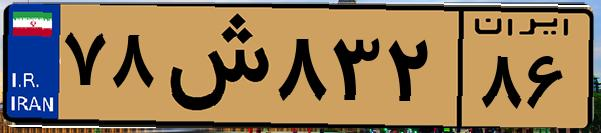2: (385, 28, 445, 110)
3: (330, 28, 385, 110)
6: (525, 38, 570, 115)
7: (57, 26, 110, 100)
8: (270, 28, 330, 110), (475, 38, 525, 113), (110, 28, 158, 98)
ش: (158, 12, 270, 120)
